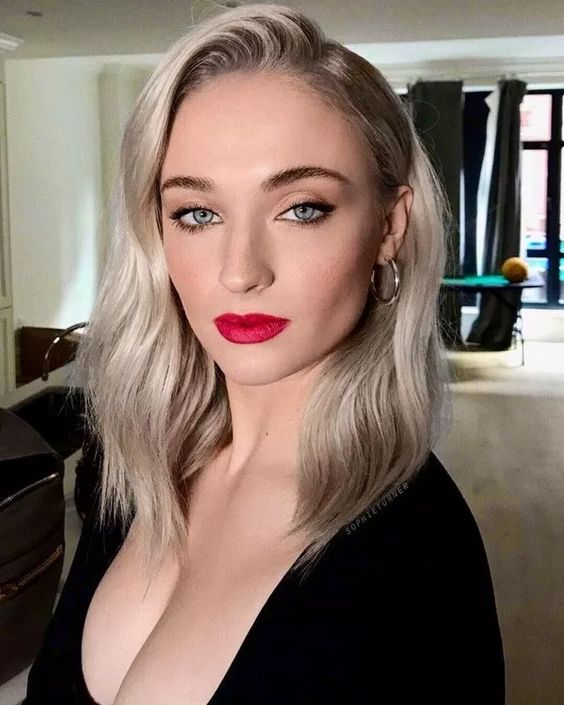bare: (158, 233, 385, 385)
